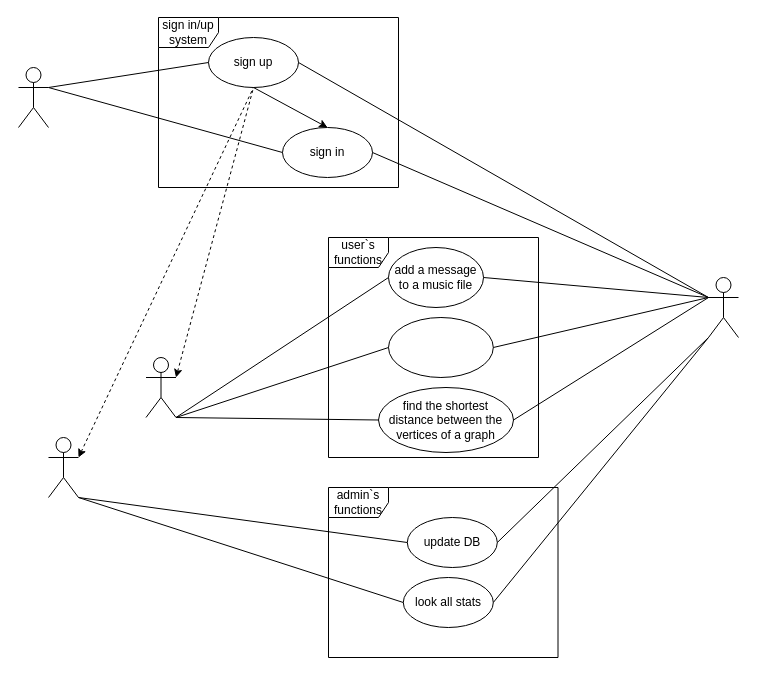
Some shapes in this 758 by 675 pixel diagram are drawn without their labels. Here are the shapes that lost their labels. From the top down, the box of each, then its label:
(18, 66, 48, 128): Guest
(708, 276, 738, 338): Server
(388, 316, 493, 378): find the root by Newton's method
(145, 356, 176, 418): User
(48, 436, 78, 498): Admin
